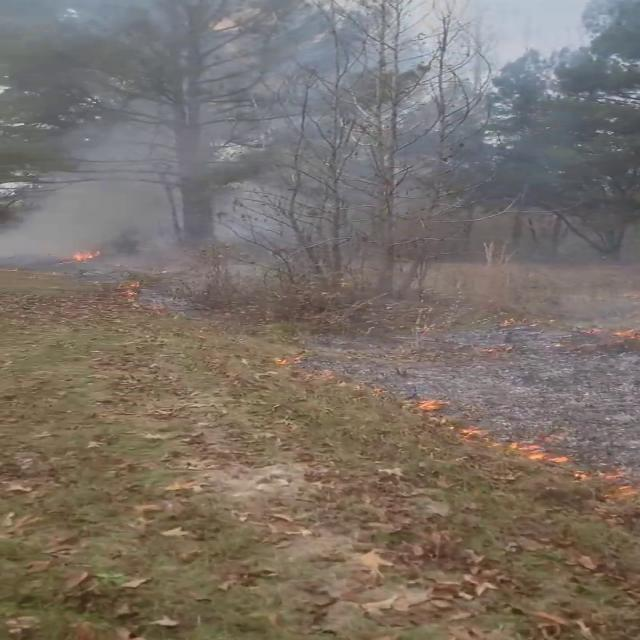Fire: (65, 243, 104, 266)
Smoke: (2, 1, 312, 300)
